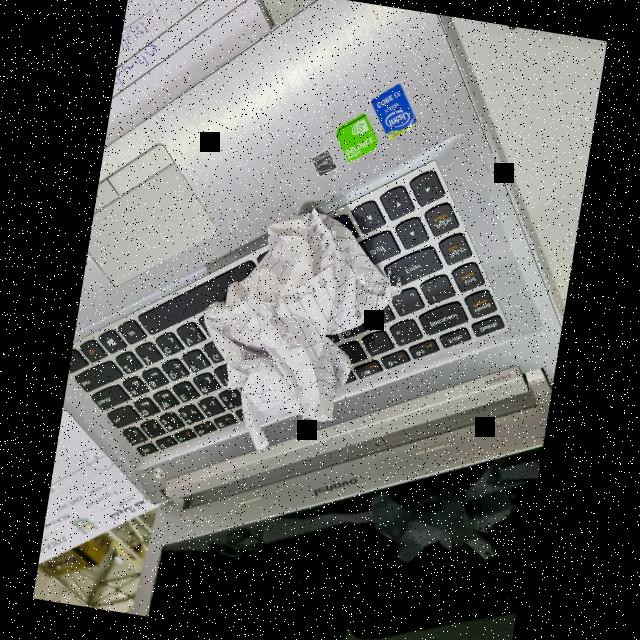scrap_paper: (206, 200, 394, 460)
